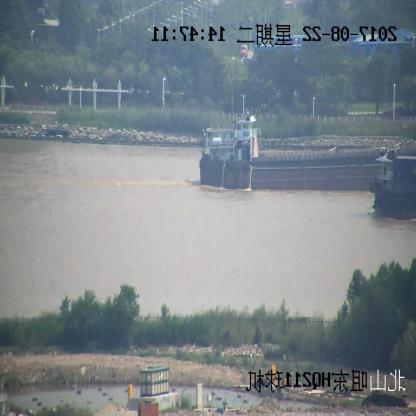Bulk Carrier: (197, 115, 416, 192)
